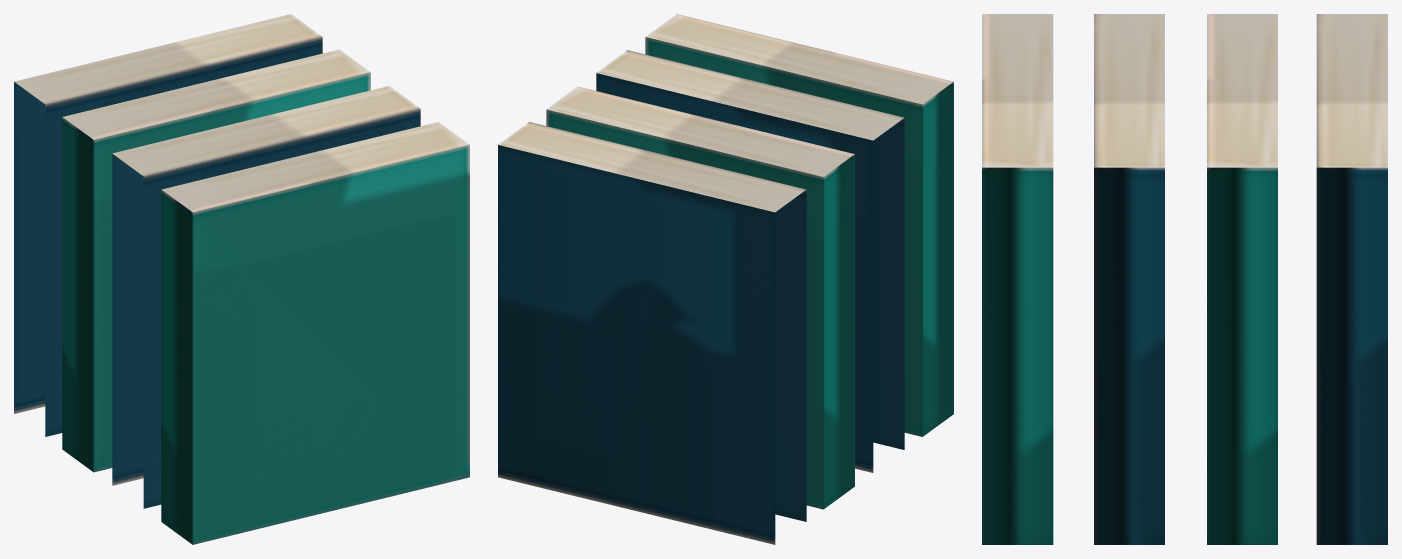
The model's file is Tx_props_books_36.fbx.
3 views of the same model, side by side, from view 1: azimuth 30°, elevation 25°; view 2: azimuth 150°, elevation 25°; view 3: azimuth 270°, elevation 25° (orthographic). The views are drawn at different scales.
Parts seen in each view (by area): view 1: Tx_props_books_8; view 2: Tx_props_books_8; view 3: Tx_props_books_8.
Part boxes in pixels (x1,y1,x2,y2): Tx_props_books_8: [14, 14, 469, 544]; Tx_props_books_8: [498, 14, 953, 544]; Tx_props_books_8: [982, 14, 1387, 544].
Size of the model in its own units: 2.01 by 2.31 by 2.25.
